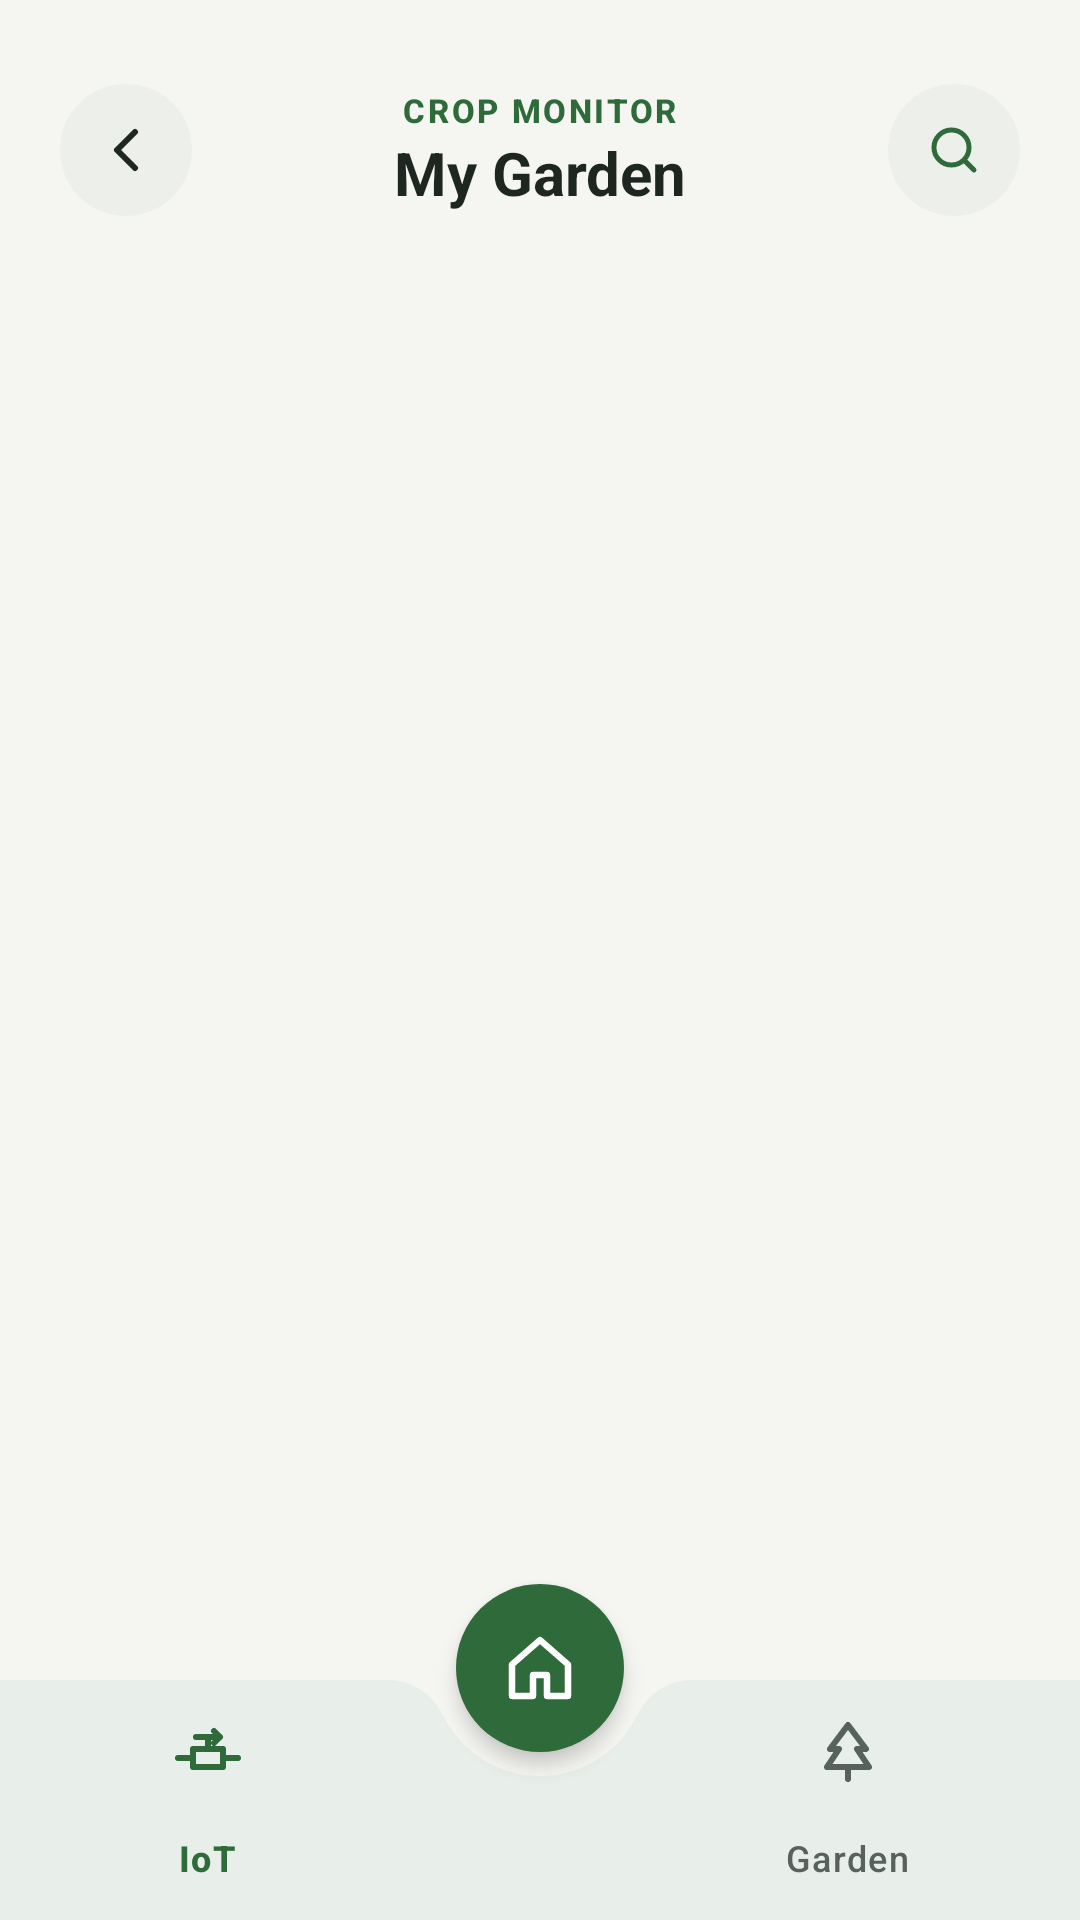

Point at icon controls on the screen. Image size 1080px×1920px, points as [x,y].
Back: [126,150]
Home: [540,1677]
Search & add plants: [954,150]
